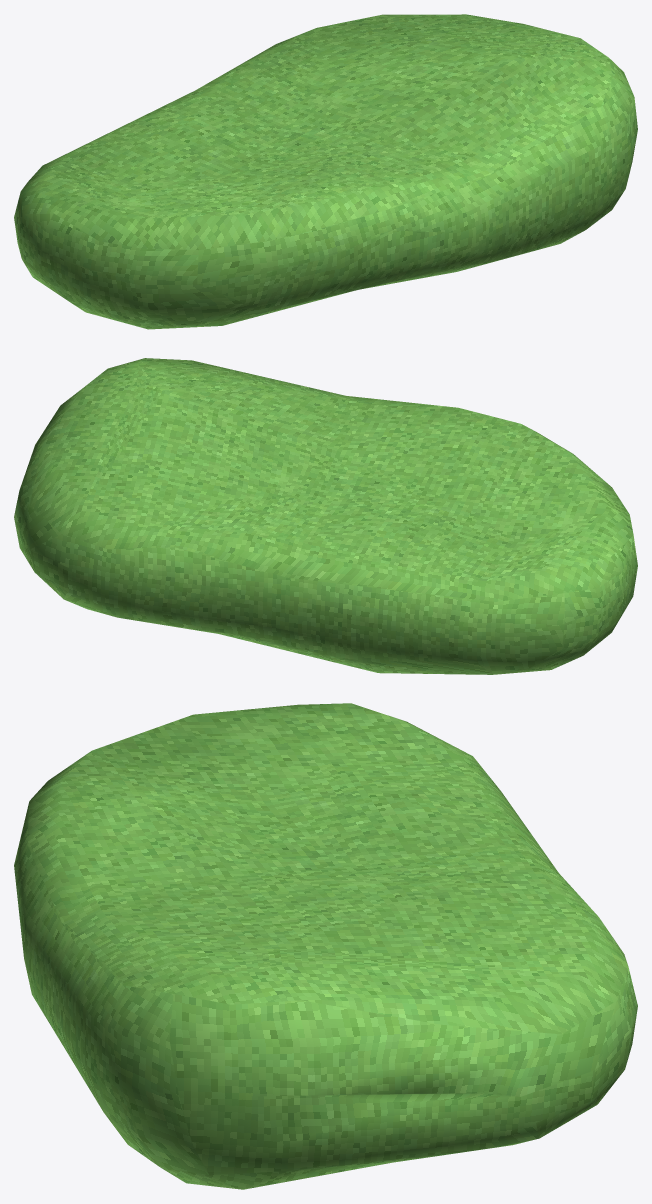
The model's file is HikeGardenBeanALow.fbx.
3 views of the same model, one above another, from view 1: azimuth 30°, elevation 25°; view 2: azimuth 150°, elevation 25°; view 3: azimuth 270°, elevation 25° (orthographic). The views are drawn at different scales.
Visible parts, largest first — view 1: mesh-0.001; view 2: mesh-0.001; view 3: mesh-0.001.
Part boxes in pixels (left/top/right/bottom): mesh-0.001: left=14, top=14, right=637, bottom=329; mesh-0.001: left=14, top=358, right=637, bottom=674; mesh-0.001: left=14, top=703, right=637, bottom=1189.
Bounding box in the file's own units: 779735 × 225980 × 536157.
Materials: 1 (1 with a texture image).
